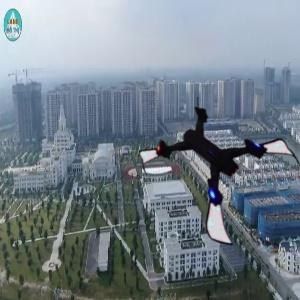drone: (156, 95, 294, 233)
